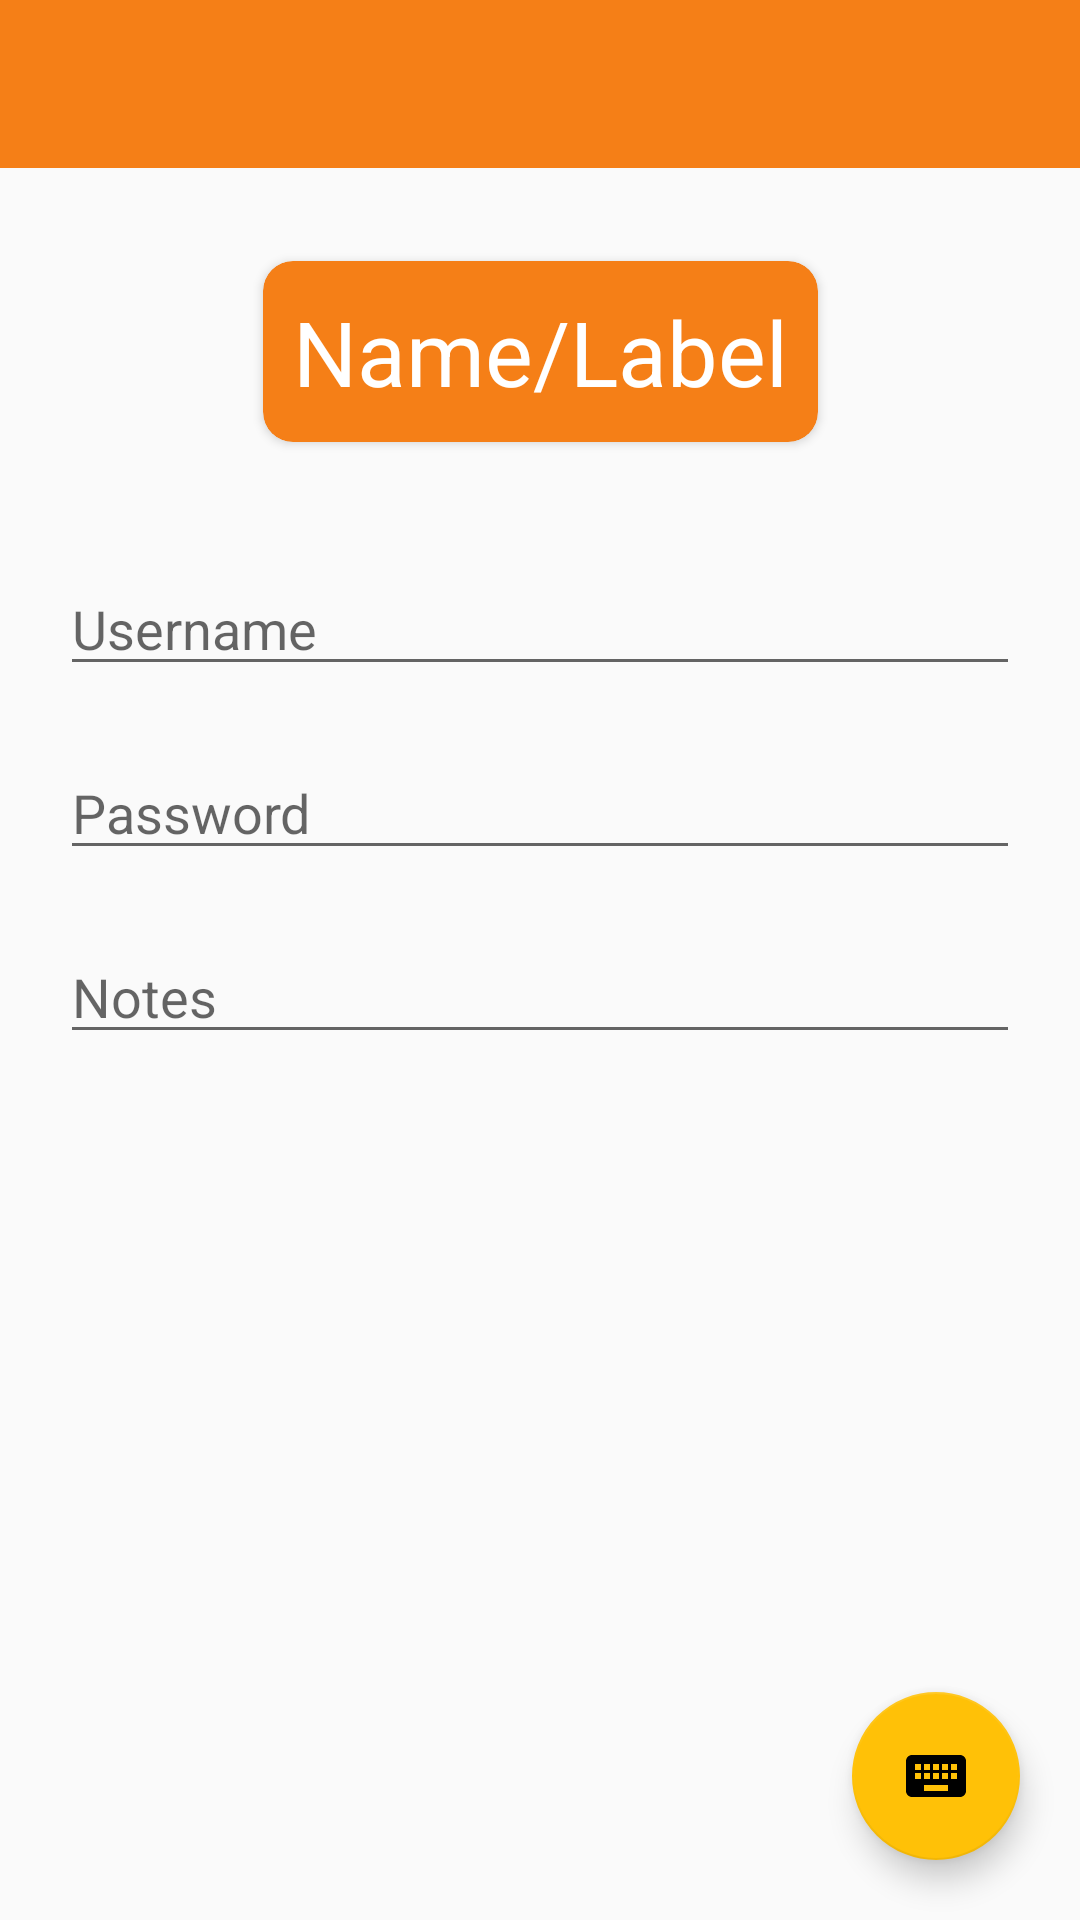

Where icons sit on this 1080*1920 app screen, as (x1, y1, x2, y2):
Select Input: (852, 1692, 1020, 1860)
